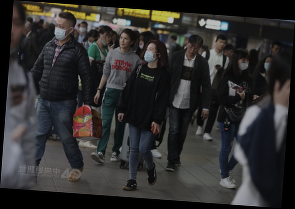mask_weared_incorrect: (100, 32, 114, 45), (138, 38, 145, 49)
with_mask: (53, 21, 70, 41), (142, 45, 158, 64), (237, 57, 249, 71), (263, 59, 274, 71), (78, 24, 86, 34), (86, 38, 94, 47)
without_mask: (118, 35, 131, 49), (186, 44, 199, 57), (215, 39, 227, 51), (271, 45, 281, 56), (225, 49, 234, 58)
